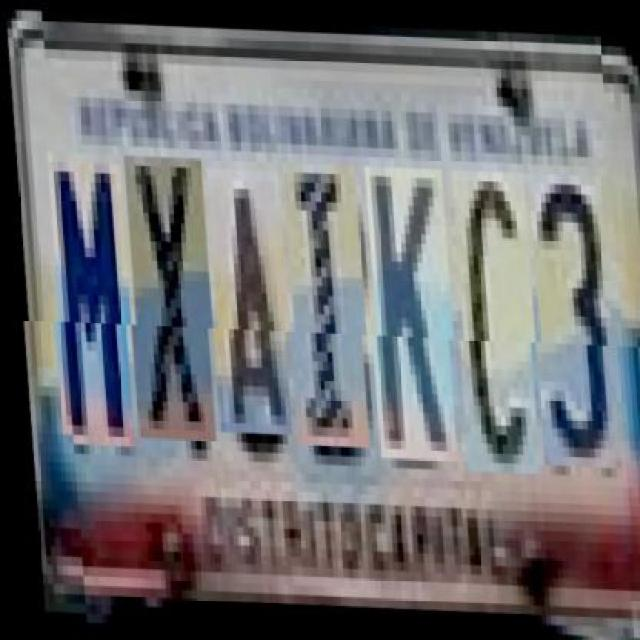3: (526, 169, 616, 463)
a: (204, 167, 291, 433)
c: (449, 166, 538, 469)
i: (280, 160, 368, 445)
k: (362, 162, 456, 458)
m: (45, 162, 133, 446)
x: (121, 155, 214, 440)
